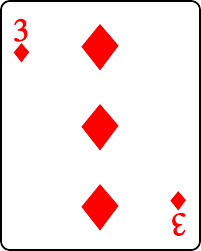three of diamonds: (4, 3, 201, 249)
